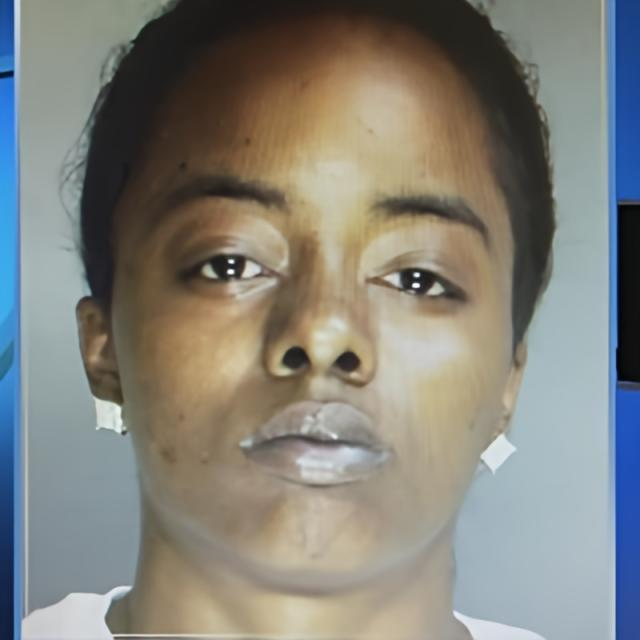neutral: (108, 9, 518, 592)
